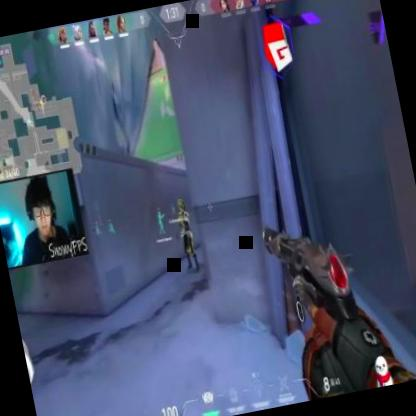enemy: (172, 196, 200, 272)
enemy_head: (175, 196, 185, 211)
